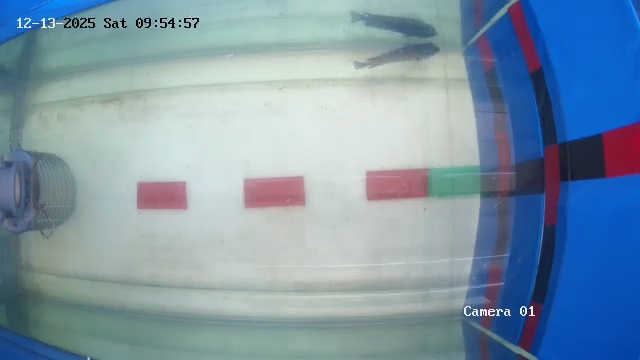fish: (351, 40, 458, 82)
